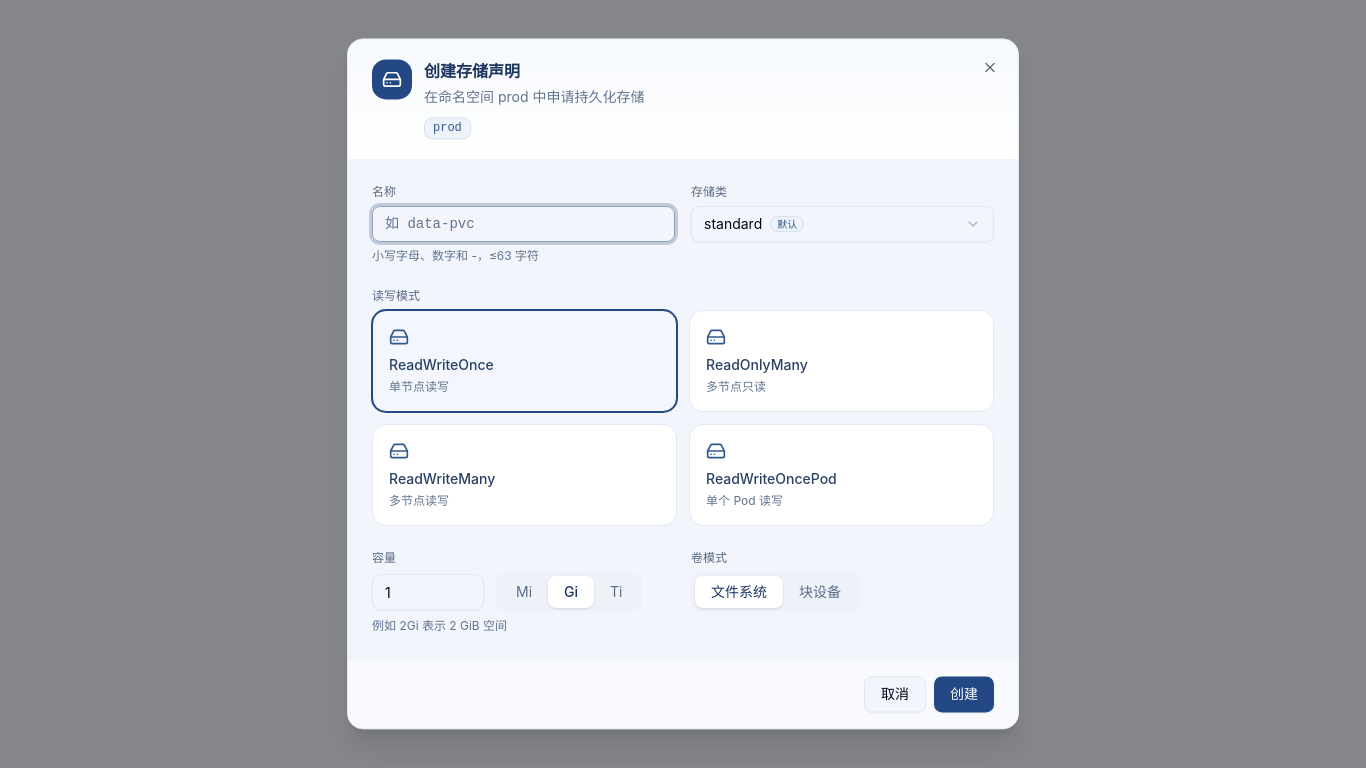
Scenario: PvcCreateDialog › preselects the default StorageClass and shows its 默认 badge
This screenshot has width=1366, height=768.
Click the dropdown named "存储类": (733, 224) [691,206,994,242]
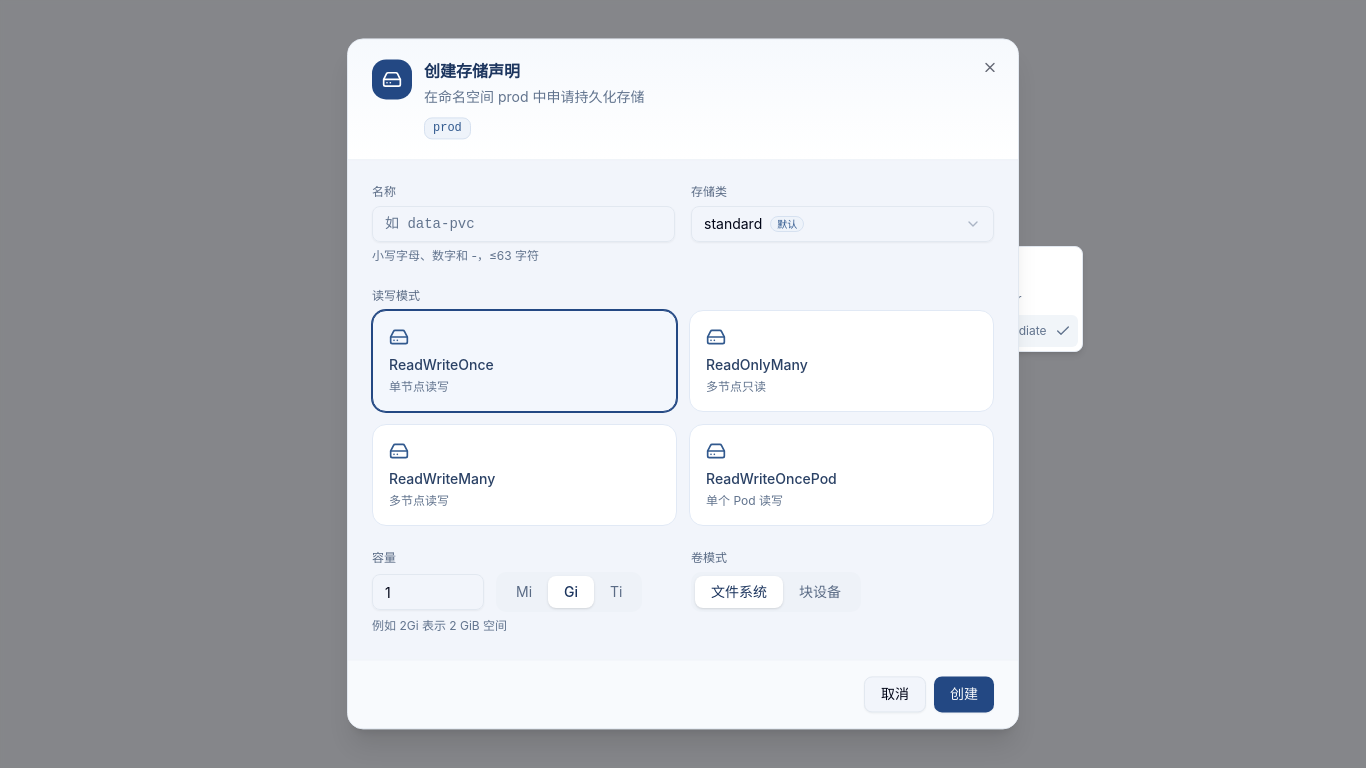
Result: the option "standard 默认 kubernetes.io/no-provisioner · Immediate" is shown at [696,315,1078,347]
